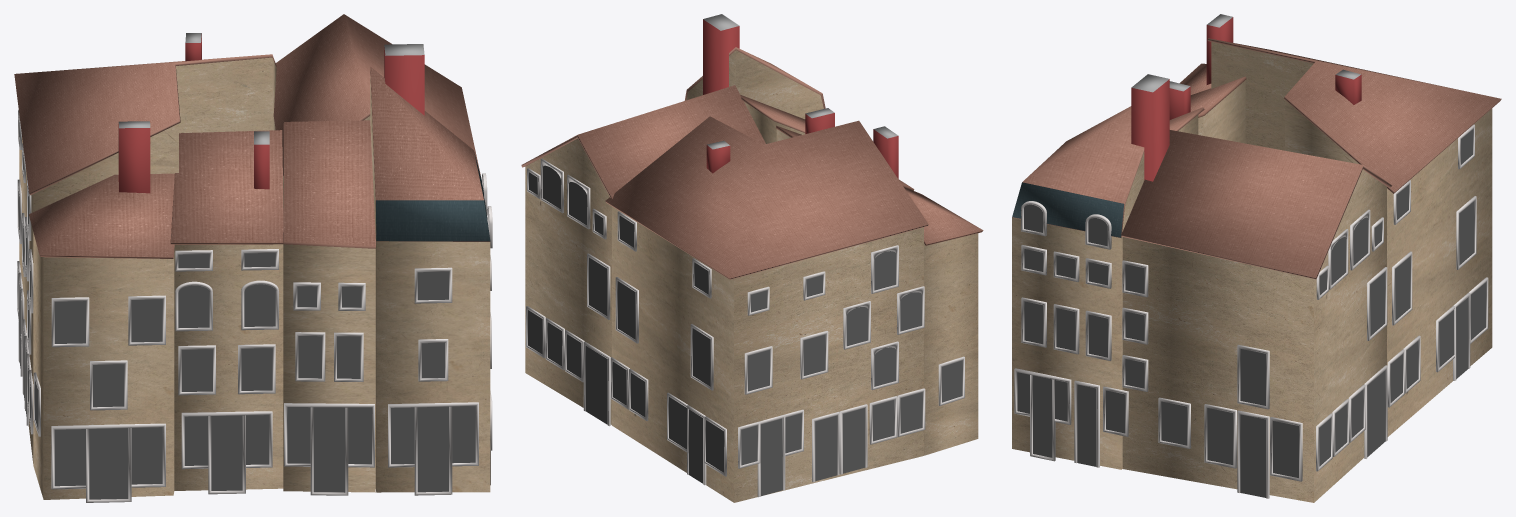
File: ilot39combine.fbx
3 renders of one model, left to right at view 1: azimuth 30°, elevation 25°; view 2: azimuth 150°, elevation 25°; view 3: azimuth 270°, elevation 25°, orthographic. The views are drawn at different scales.
Visible parts, largest first — view 1: _ILOT39BAT1, _ILOT39BAT5, _ILOT39BAT3, _ILOT39BAT4, _ILOT39BAT2, _ILOT39BAT6; view 2: _ILOT39BAT2, _ILOT39BAT6, _ILOT39BAT1, _ILOT39BAT5, _ILOT39BAT4, _ILOT39BAT3; view 3: _ILOT39BAT6, _ILOT39BAT2, _ILOT39BAT5, _ILOT39BAT3, _ILOT39BAT1, _ILOT39BAT4.
Part boxes in pixels (left/top/right/bottom): _ILOT39BAT1: left=28, top=121, right=174, bottom=502; _ILOT39BAT5: left=370, top=67, right=492, bottom=495; _ILOT39BAT3: left=170, top=130, right=283, bottom=494; _ILOT39BAT4: left=283, top=120, right=375, bottom=495; _ILOT39BAT2: left=14, top=33, right=276, bottom=463; _ILOT39BAT6: left=273, top=14, right=481, bottom=207; _ILOT39BAT2: left=605, top=116, right=928, bottom=502; _ILOT39BAT6: left=521, top=14, right=765, bottom=426; _ILOT39BAT1: left=873, top=126, right=983, bottom=455; _ILOT39BAT5: left=684, top=47, right=825, bottom=119; _ILOT39BAT4: left=740, top=95, right=805, bottom=143; _ILOT39BAT3: left=776, top=108, right=914, bottom=190; _ILOT39BAT6: left=1121, top=74, right=1392, bottom=502; _ILOT39BAT2: left=1207, top=38, right=1501, bottom=436; _ILOT39BAT5: left=1012, top=106, right=1144, bottom=469; _ILOT39BAT3: left=1169, top=76, right=1246, bottom=143; _ILOT39BAT1: left=1179, top=14, right=1233, bottom=94; _ILOT39BAT4: left=1169, top=107, right=1204, bottom=134.
Bounding box in the file's own units: 3.56 × 2.78 × 3.38.
